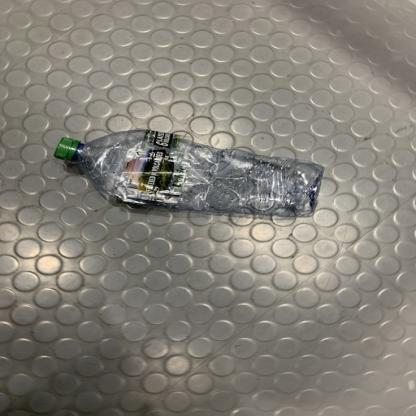trash: (53, 128, 326, 218)
